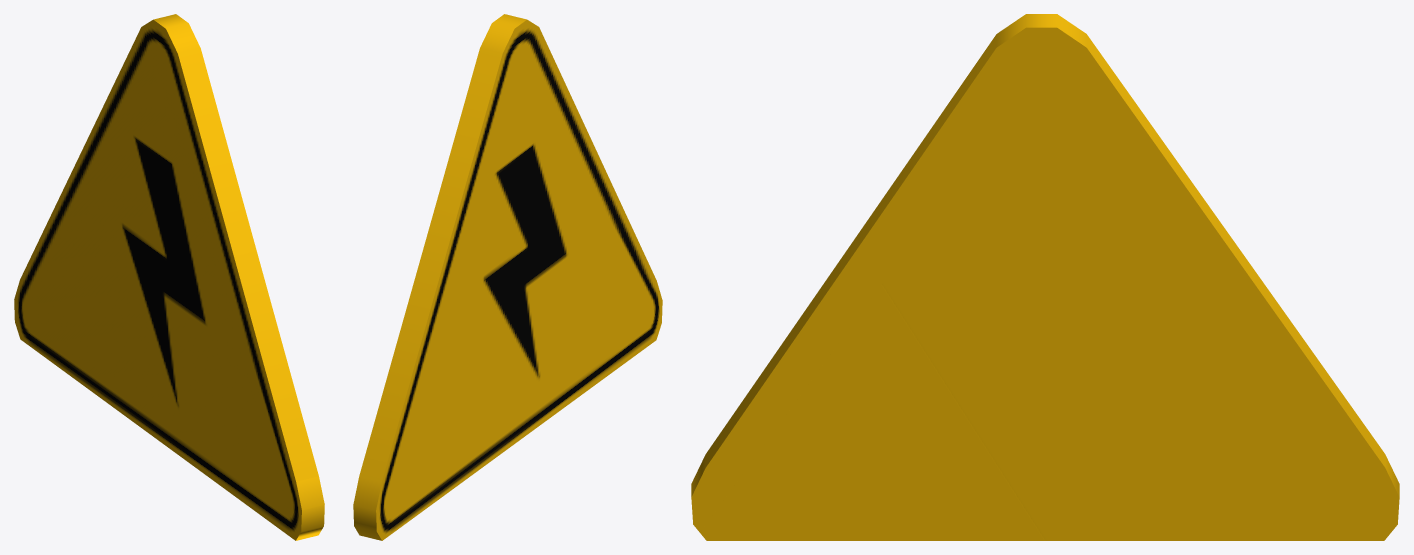
File: Sign_9.fbx
3 renders of one model, left to right at view 1: azimuth 30°, elevation 25°; view 2: azimuth 150°, elevation 25°; view 3: azimuth 270°, elevation 25°, orthographic. The views are drawn at different scales.
Visible parts, largest first — view 1: Sign_9; view 2: Sign_9; view 3: Sign_9.
Boxes of the visible parts, <box> form: Sign_9: <box>14,14,324,540</box>; Sign_9: <box>353,14,662,540</box>; Sign_9: <box>691,14,1399,540</box>.
Size of the model in its own units: 3.61 by 63.03 by 78.82.
